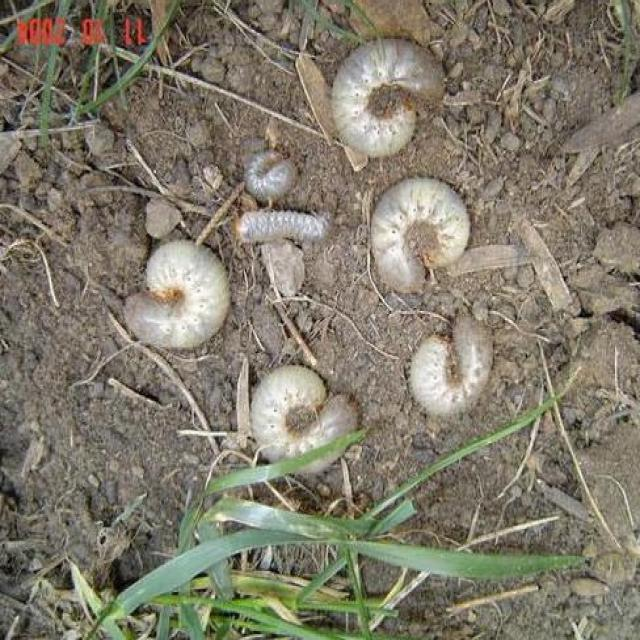grub: (318, 27, 437, 161), (249, 361, 351, 479), (116, 246, 232, 348), (402, 305, 492, 421), (365, 184, 466, 281), (228, 202, 330, 242), (232, 150, 297, 201)
